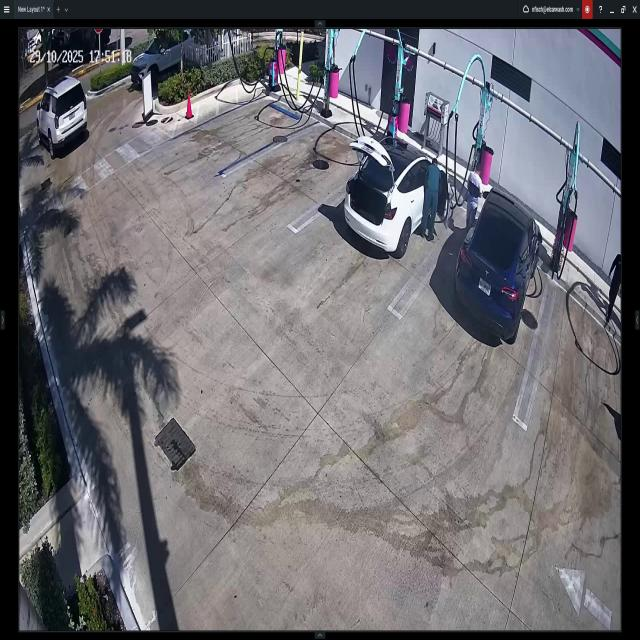Car: (455, 184, 540, 345), (344, 130, 448, 258), (133, 31, 197, 92), (37, 79, 89, 154)
